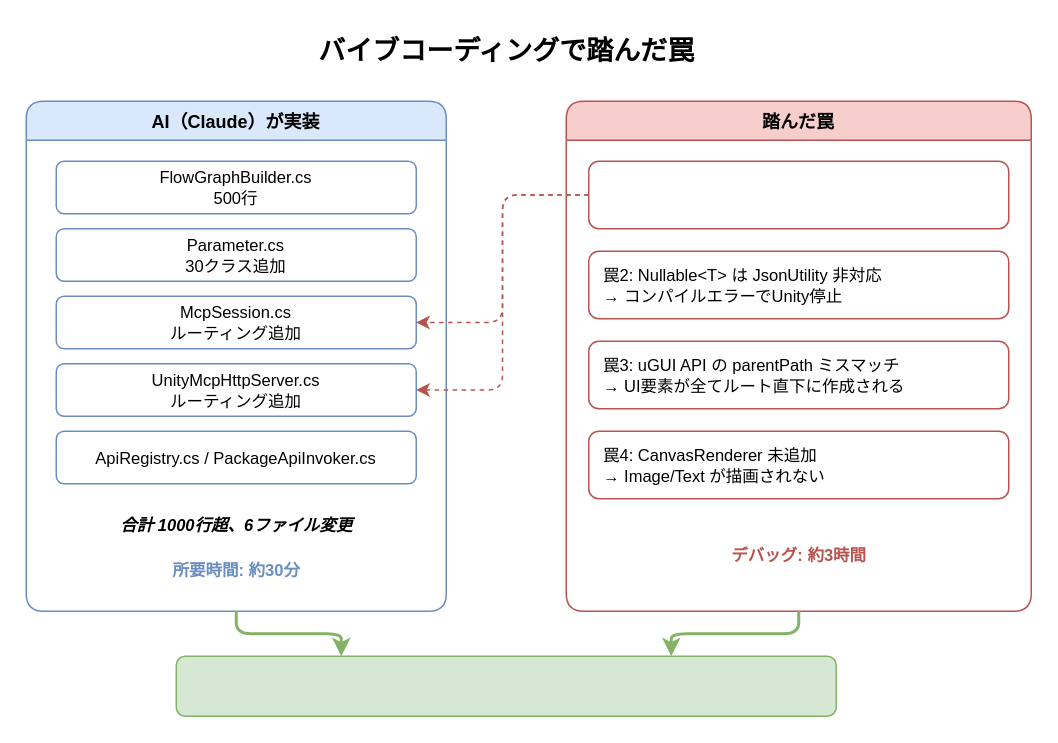
This 1058x743 diagram has some shape labels left out. Each missing label, with the centre of its shape:
"教訓: 設計は自分、実装はAI、レビューは自分" goes at (505,685).
"罠1: 2ファイルに同じルーティングが必要 → 片方だけ更新して30分ハマる" goes at (798,194).
